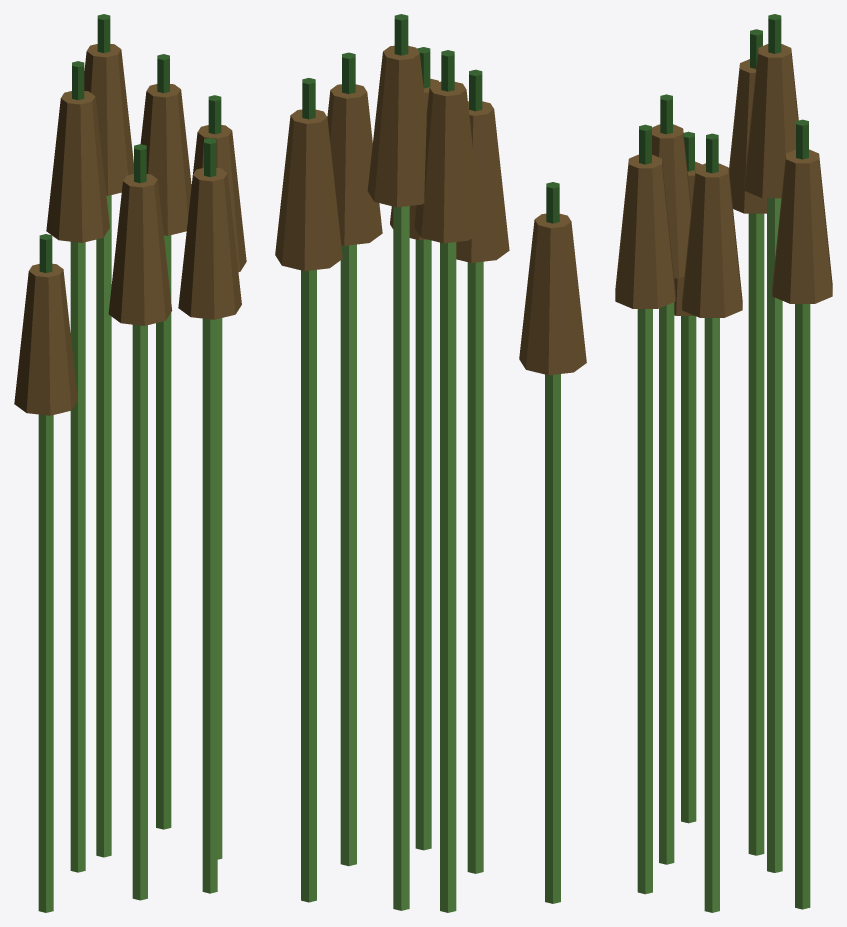
The model's file is Cattails.glb.
3 views of the same model, side by side, from view 1: azimuth 30°, elevation 25°; view 2: azimuth 150°, elevation 25°; view 3: azimuth 270°, elevation 25° (orthographic). The views are drawn at different scales.
Parts seen in each view (by area): view 1: Body; view 2: Body; view 3: Body.
Part boxes in pixels (left/top/right/bottom): Body: left=14, top=14, right=246, bottom=912; Body: left=275, top=14, right=586, bottom=912; Body: left=615, top=14, right=832, bottom=912.
Size of the model in its own units: 1.83 by 6.33 by 1.46.
